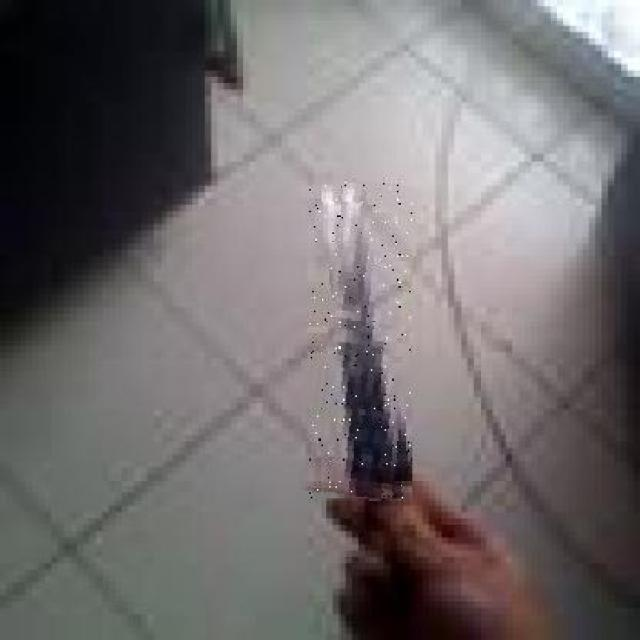knife: (310, 179, 413, 498)
